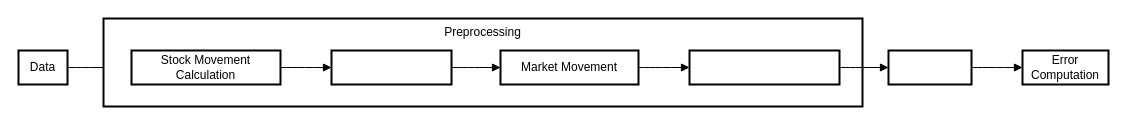
This 1126x124 diagram has some shape labels left out. The centre of each missing label's shape, as x and y in pixels:
"Net Stock Movement" belongs at point (764, 67).
"Stock Movement Definition" belongs at point (391, 67).
"SVM Regression" belongs at point (929, 67).
